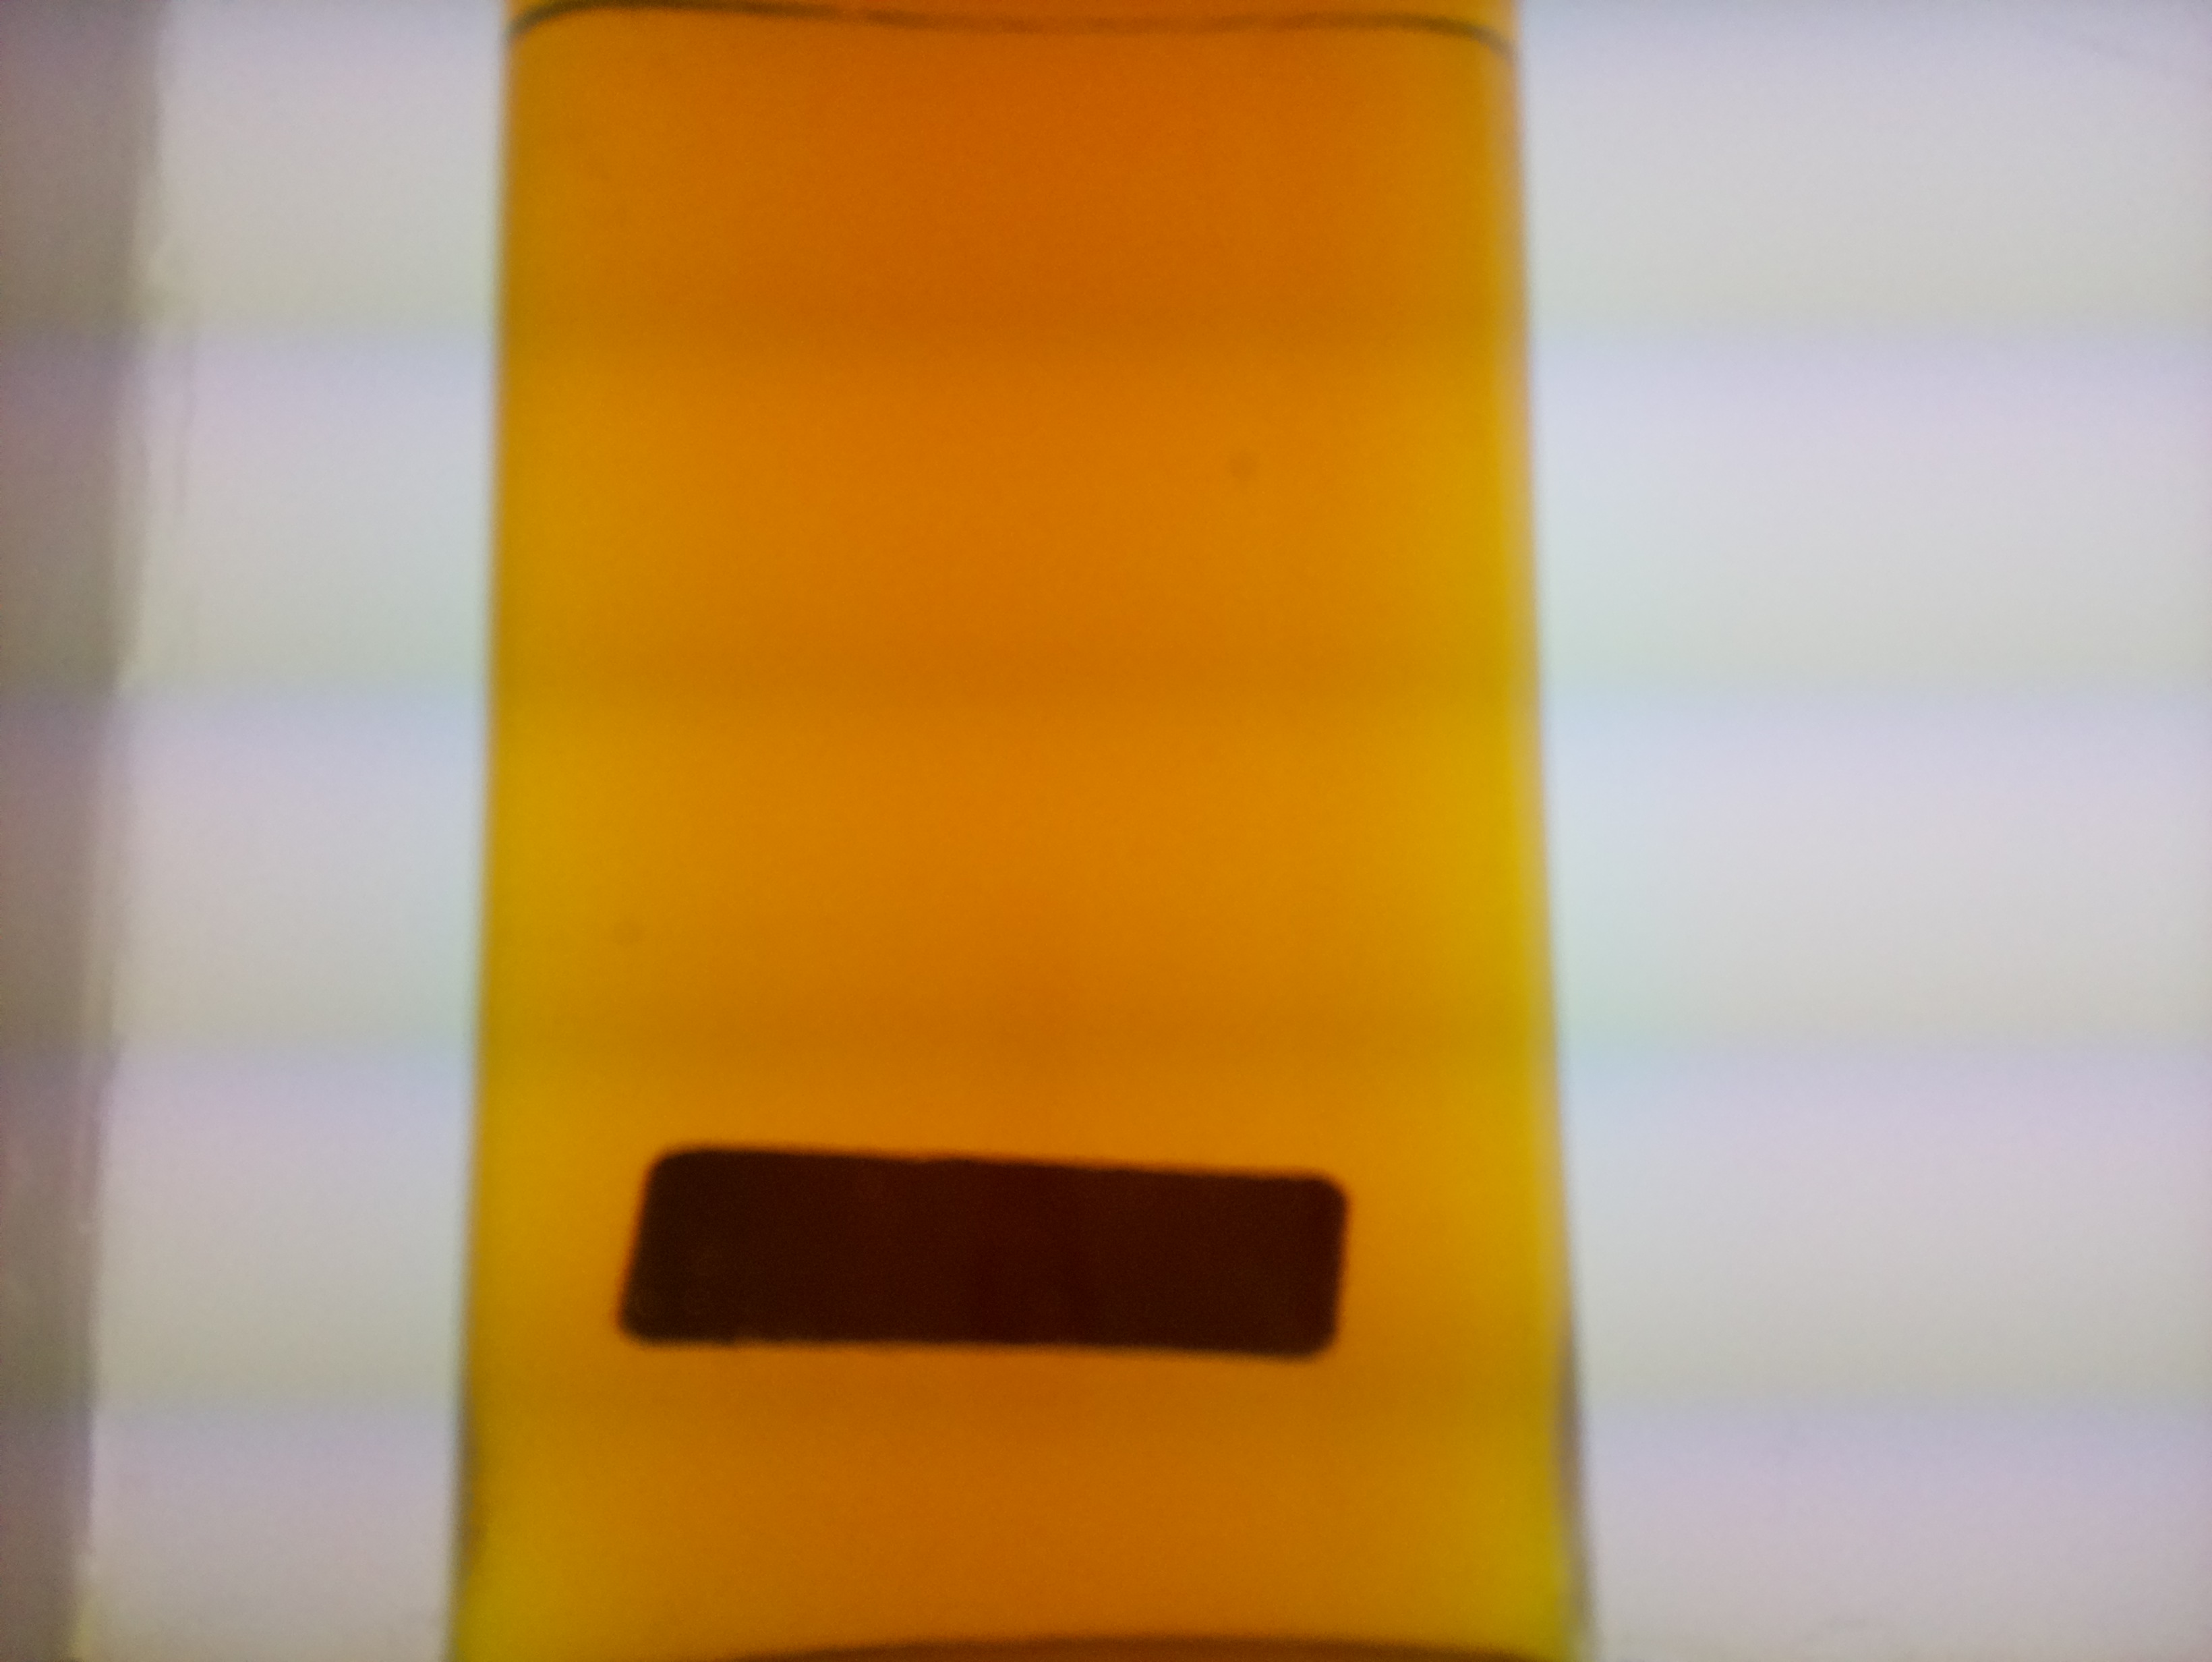colored_area: (454, 38, 1571, 1648)
